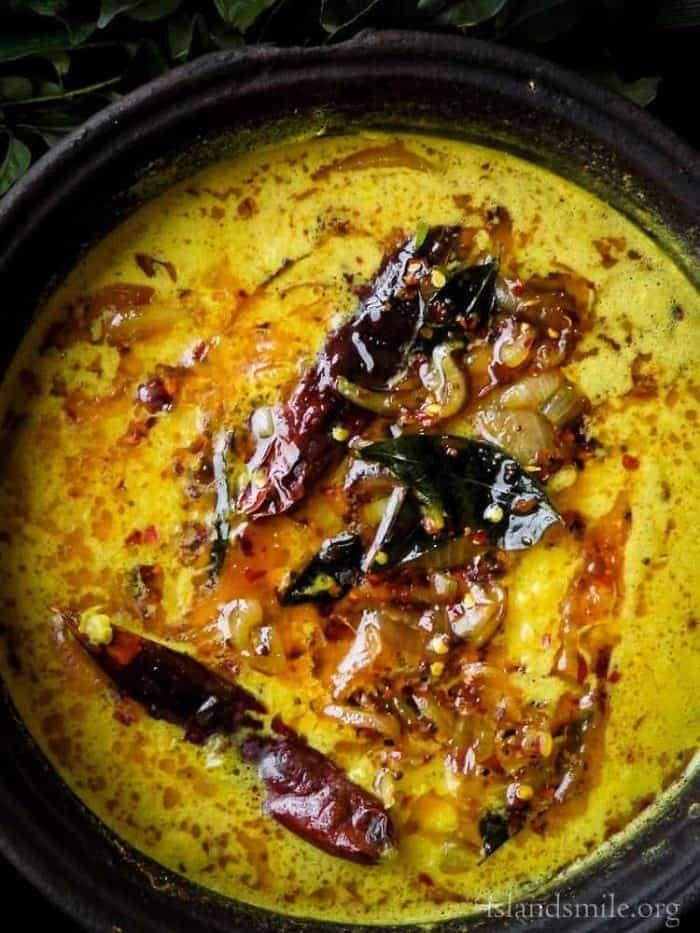Dhal Curry: (38, 76, 655, 882)
